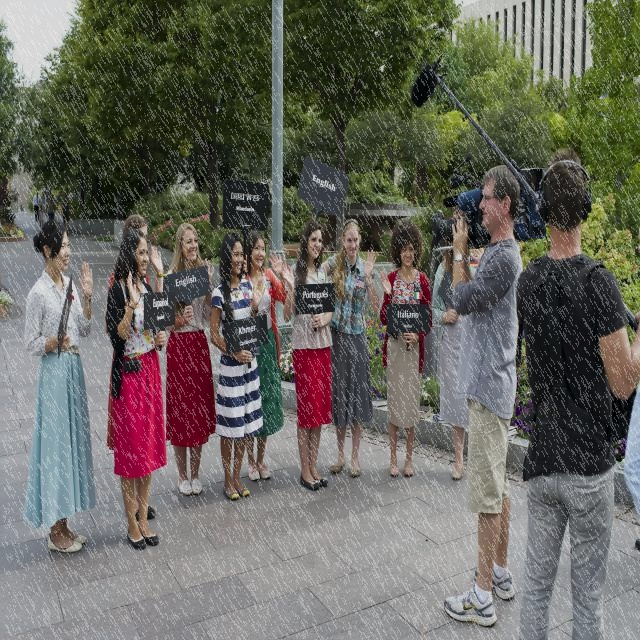pessoa: (512, 145, 639, 639), (442, 162, 526, 628), (24, 218, 94, 554), (107, 228, 166, 550), (282, 218, 342, 494), (210, 231, 266, 501), (322, 217, 379, 479), (379, 217, 434, 482), (234, 230, 290, 480), (164, 221, 214, 496), (431, 214, 477, 482), (621, 292, 640, 560), (108, 214, 164, 294), (428, 208, 450, 316), (111, 185, 128, 224), (61, 196, 70, 232), (32, 192, 41, 222), (46, 194, 56, 220), (38, 204, 47, 232)
